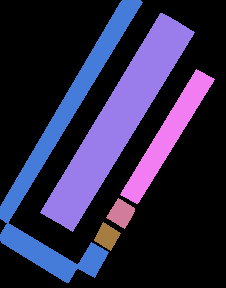parkingspot: (0, 0, 142, 223), (56, 21, 194, 231), (40, 13, 178, 222), (120, 69, 214, 203), (0, 223, 78, 282), (76, 242, 108, 277), (106, 198, 134, 228), (94, 222, 120, 250)
